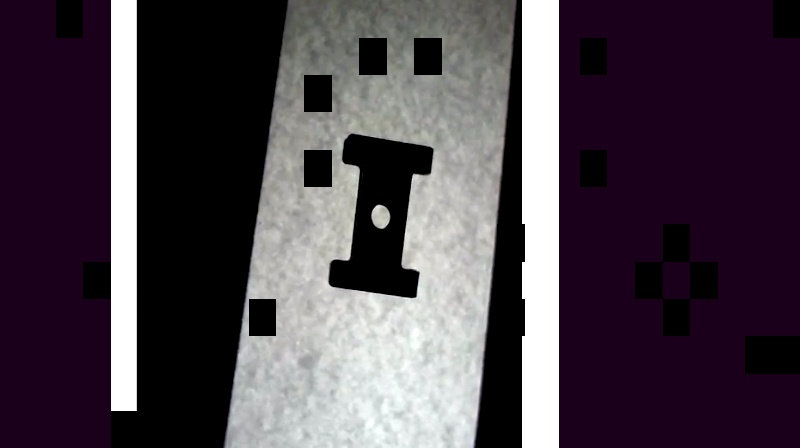O002: (324, 128, 435, 300)
